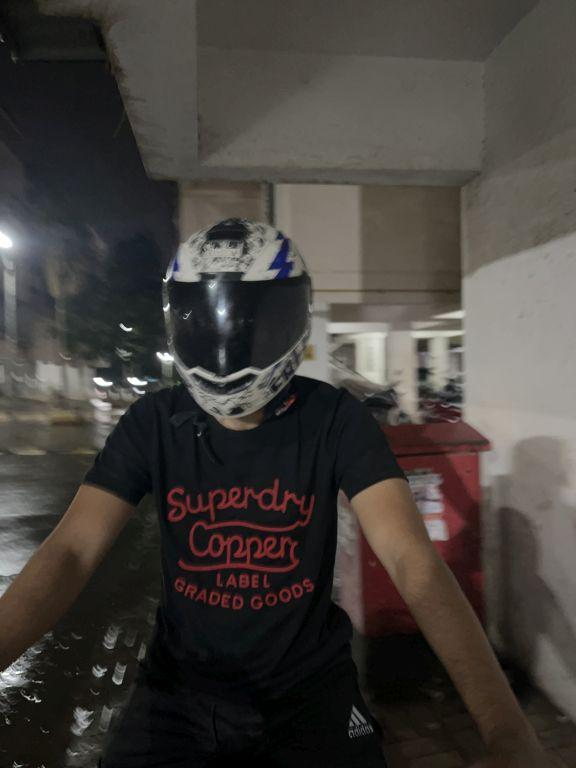helmet: (152, 209, 329, 435)
